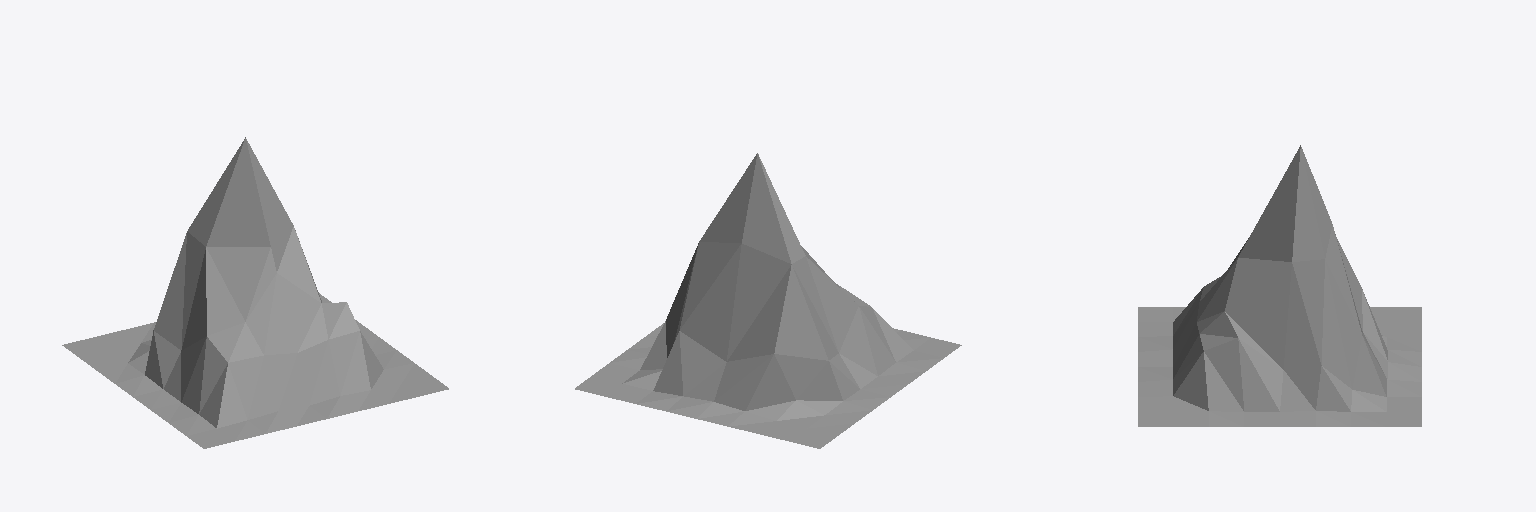
Rendered from Terrain3.obj.
The picture shows the model from 3 angles: view 1: azimuth 30°, elevation 25°; view 2: azimuth 150°, elevation 25°; view 3: azimuth 270°, elevation 25°; orthographic projection.
Visible parts, largest first — view 1: Plane.003; view 2: Plane.003; view 3: Plane.003.
Boxes of the visible parts, <box> form: Plane.003: <box>62,137,448,448</box>; Plane.003: <box>575,153,961,448</box>; Plane.003: <box>1138,145,1421,426</box>.
Bounding box in the file's own units: 3.79 × 3.26 × 3.79.